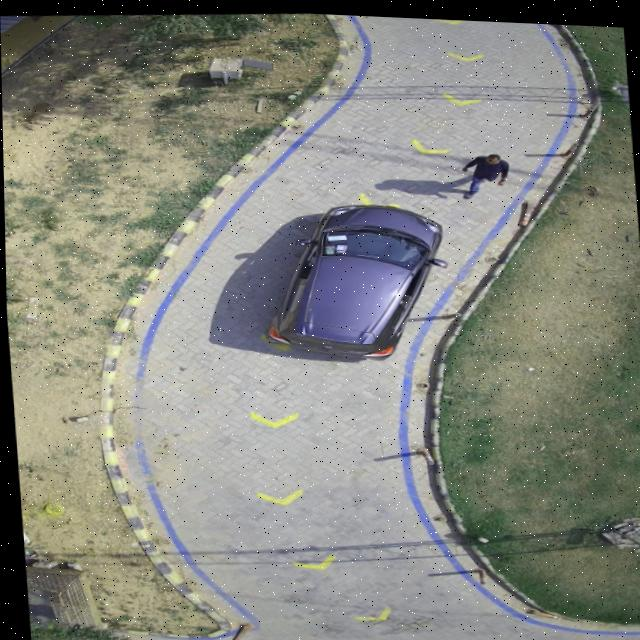car: (267, 201, 445, 356)
